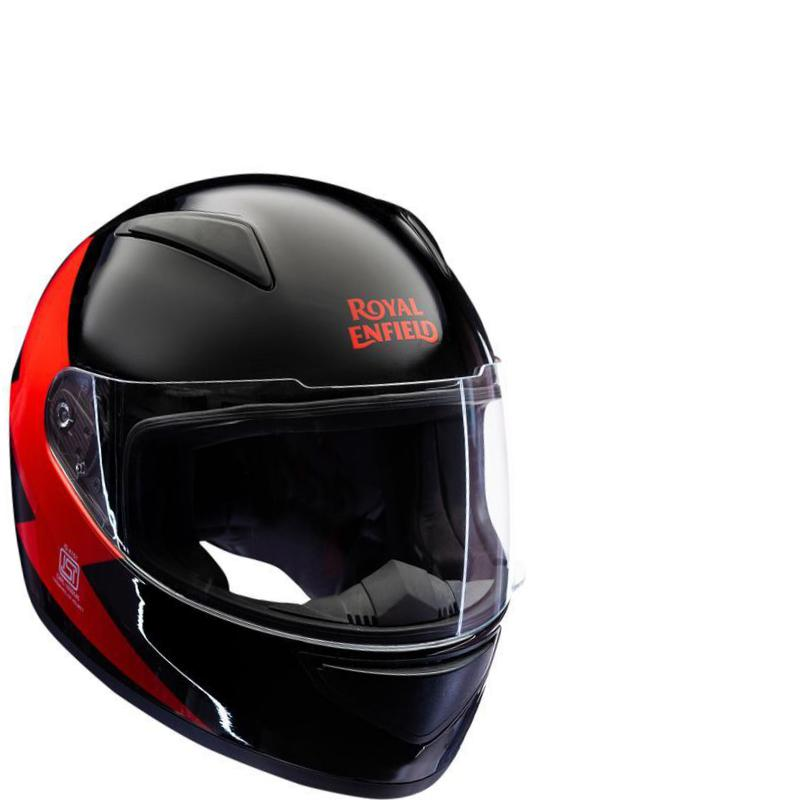helmet: (7, 144, 571, 800)
